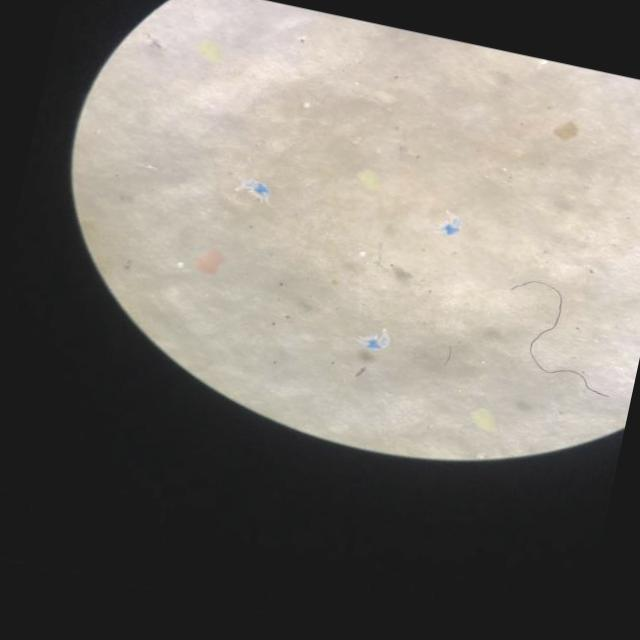fiber: (509, 280, 604, 395)
film: (362, 332, 388, 351), (243, 180, 268, 198), (441, 219, 459, 235)
fragment: (196, 250, 221, 274), (552, 122, 577, 140), (471, 410, 493, 429), (357, 170, 379, 189), (198, 43, 218, 60)
pellet: (303, 103, 310, 108), (176, 262, 182, 267), (359, 252, 364, 257)
